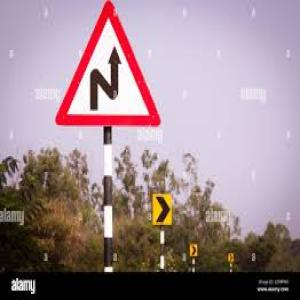bend: (56, 4, 164, 129)
